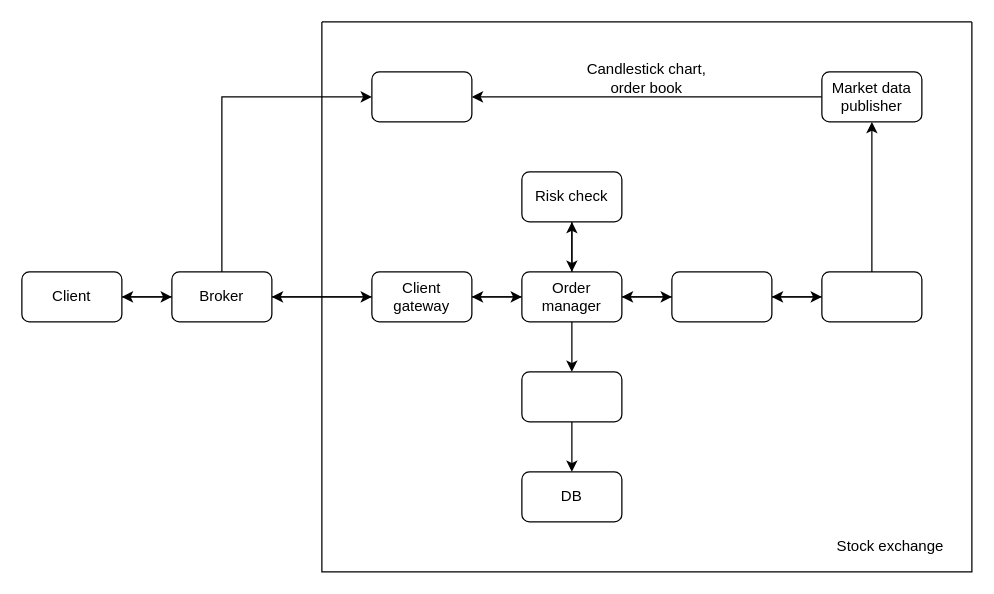
This 994x594 diagram has some shape labels left out. Here are the shapes that lost their labels. From the top down, the box of each, then its label:
(371, 71, 472, 122): Data service
(671, 271, 772, 322): Sequencer
(821, 271, 922, 322): Matching engine
(521, 371, 622, 422): Reporter
